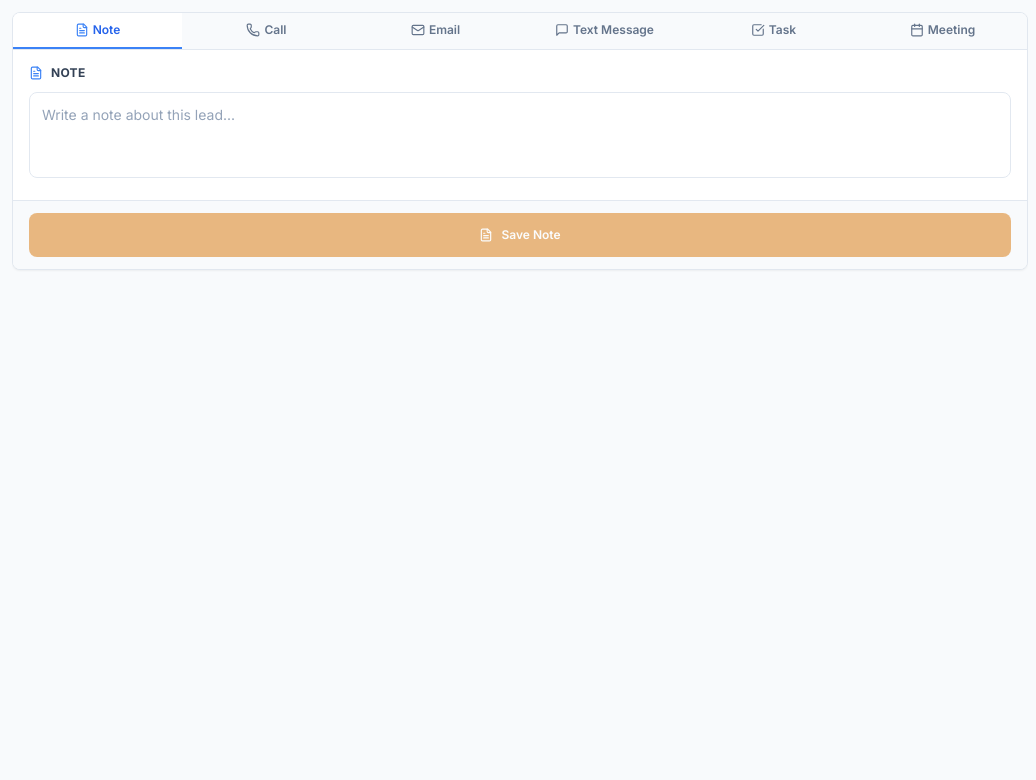
it: ActivityComposer — Owner Directory resolves from the canonical owners table › a legitimate, active owner (Yaron Drilevich) resolves — no "not configured" warning
Click the button "Email" at (436, 31), box [351, 13, 520, 49]
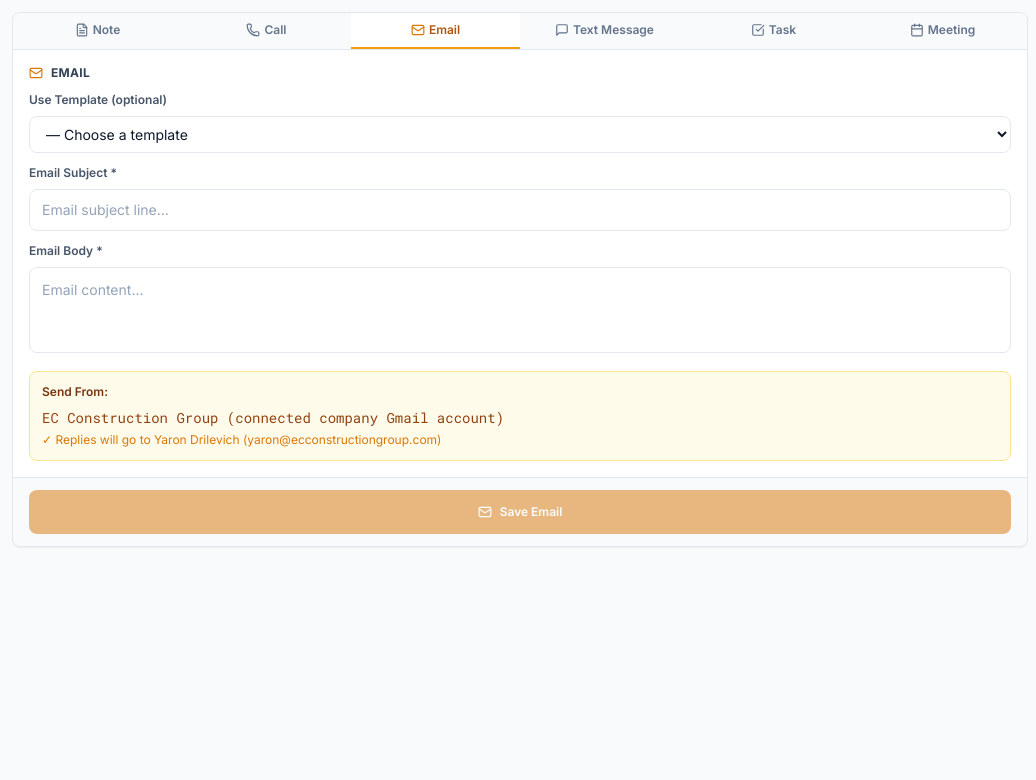
Check: the text "Replies will go to Yaron Drilevich" is shown, box [42, 432, 442, 447]
